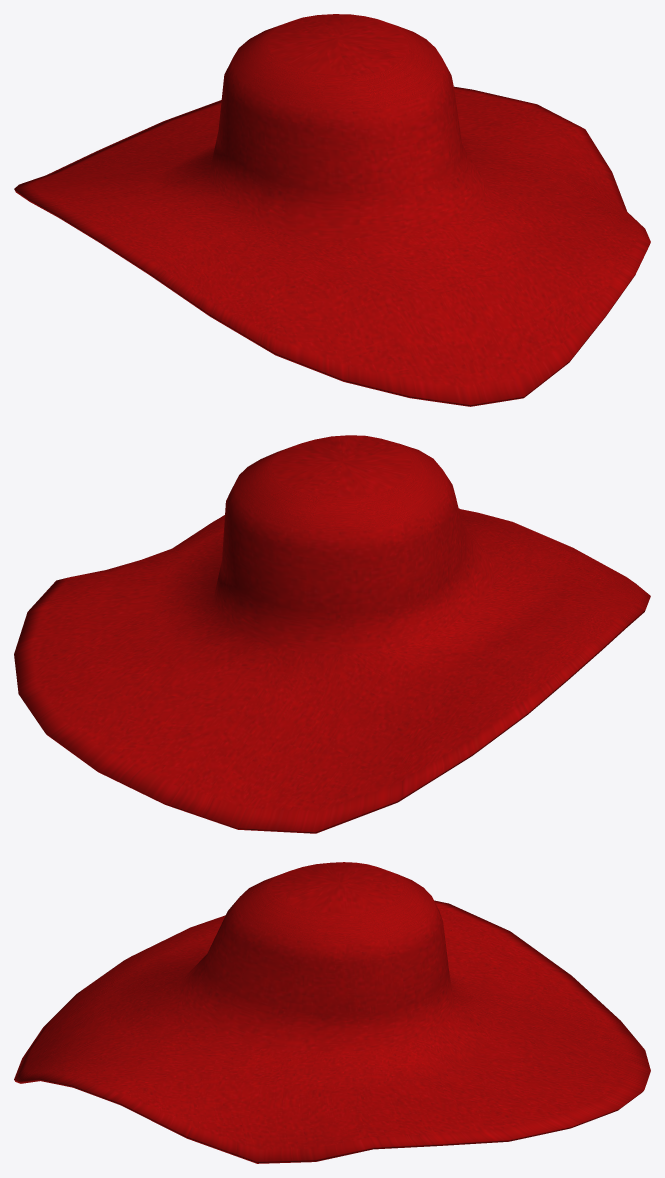
File: redhat.glb
3 views of the same model, one above another, from view 1: azimuth 30°, elevation 25°; view 2: azimuth 150°, elevation 25°; view 3: azimuth 270°, elevation 25° (orthographic). The views are drawn at different scales.
Parts seen in each view (by area): view 1: redhat; view 2: redhat; view 3: redhat.
Boxes of the visible parts, left/top/right/bottom form: redhat: left=14, top=14, right=650, bottom=406; redhat: left=14, top=435, right=650, bottom=833; redhat: left=14, top=862, right=650, bottom=1163.
Size of the model in its own units: 42.73 by 17.69 by 51.35.
1 material, 1 textured.
